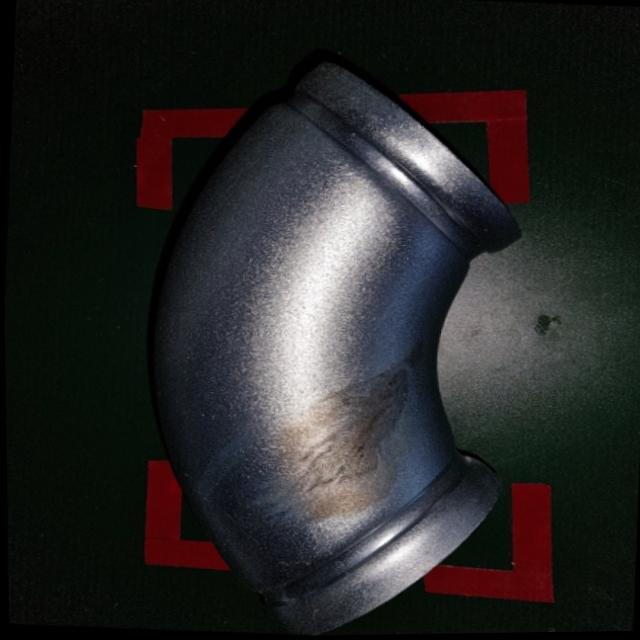Burn: (201, 346, 432, 534)
Defect: (111, 40, 543, 639)
